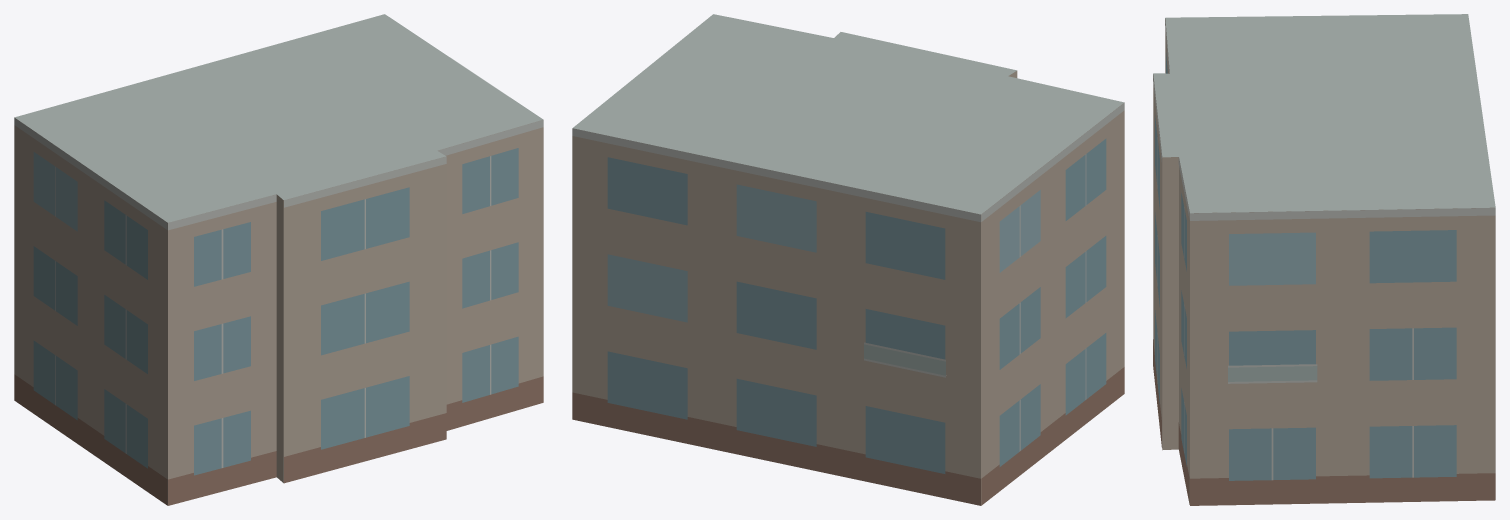
The model's file is survey-upis-32706861.glb.
The picture shows the model from 3 angles, left to right: view 1: azimuth 30°, elevation 25°; view 2: azimuth 150°, elevation 25°; view 3: azimuth 270°, elevation 25°; orthographic projection. The views are drawn at different scales.
Parts seen in each view (by area): view 1: survey-upis-32706861.tmp; view 2: survey-upis-32706861.tmp; view 3: survey-upis-32706861.tmp.
Boxes of the visible parts, bbox=[...] form: survey-upis-32706861.tmp: bbox=[14, 14, 543, 505]; survey-upis-32706861.tmp: bbox=[572, 14, 1124, 505]; survey-upis-32706861.tmp: bbox=[1153, 14, 1495, 505].
Size of the model in its own units: 13.36 by 9.15 by 9.71.
